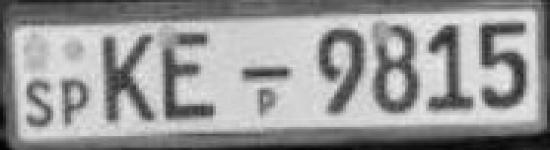-: (238, 62, 295, 86)
1: (423, 20, 477, 116)
5: (476, 19, 531, 116)
8: (372, 21, 422, 119)
9: (314, 25, 368, 117)
E: (160, 28, 222, 125)
K: (98, 30, 157, 126)
P: (59, 76, 94, 128)
S: (22, 77, 56, 129)
